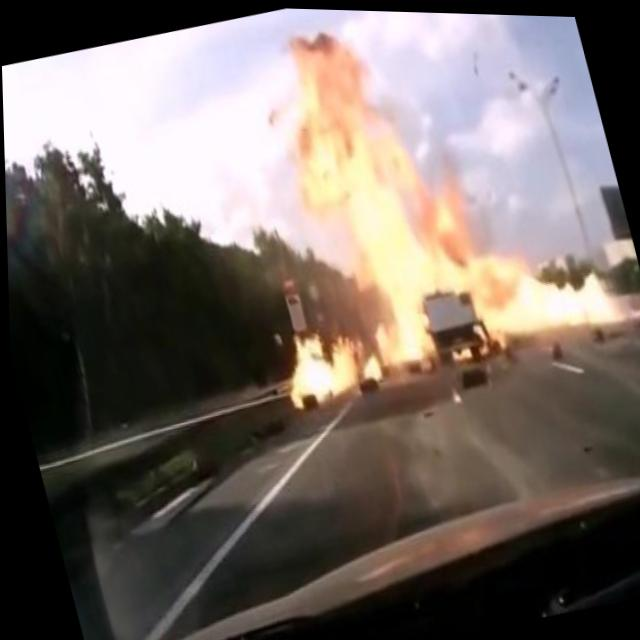fire: (189, 4, 635, 421)
